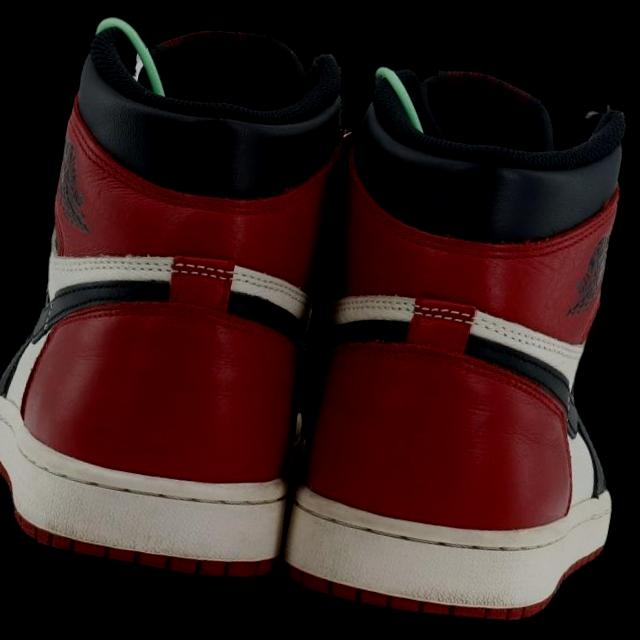nike_original_jordan: (267, 21, 640, 640), (0, 0, 370, 592)
